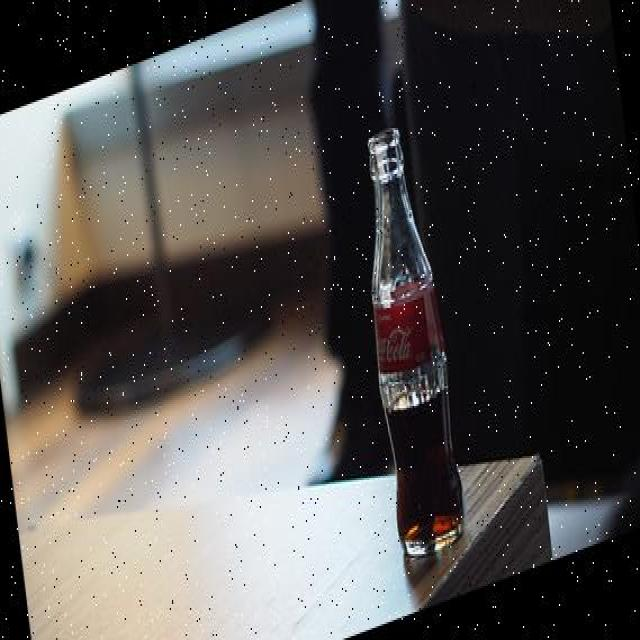coca-cola: (342, 110, 471, 572)
